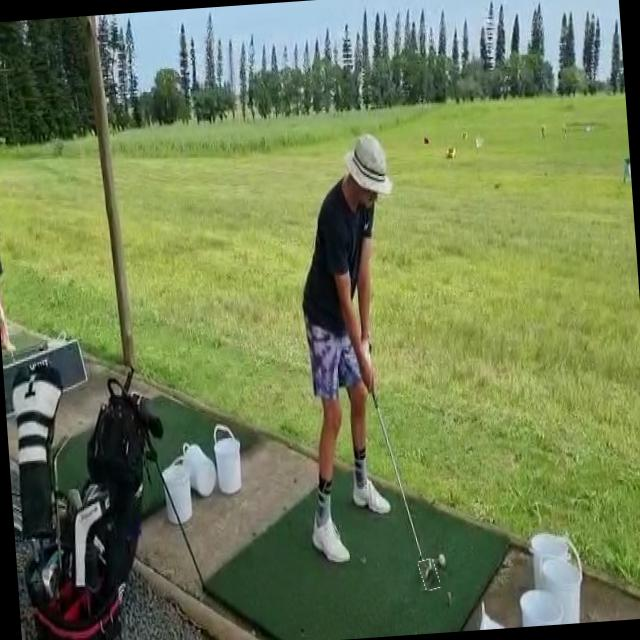club head: (418, 558, 439, 590)
